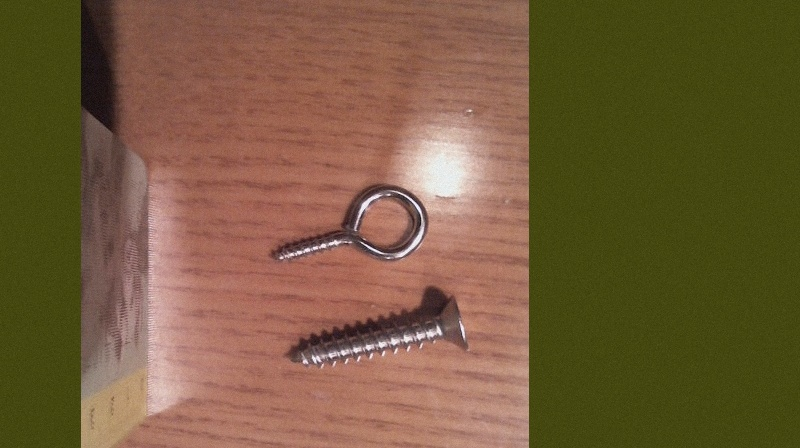O001: (265, 178, 429, 272)
S001: (281, 291, 471, 372)
